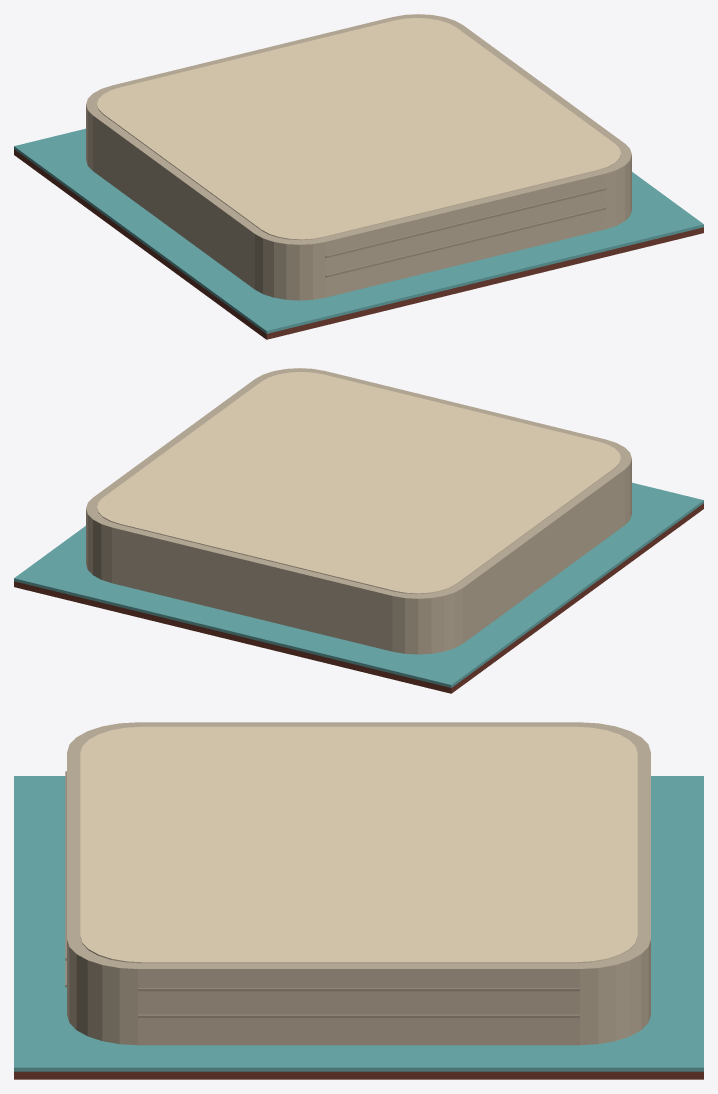
Rendered from island.glb.
3 renders of one model, top to bottom at view 1: azimuth 30°, elevation 25°; view 2: azimuth 150°, elevation 25°; view 3: azimuth 270°, elevation 25°, orthographic. The views are drawn at different scales.
Visible parts, largest first — view 1: island; view 2: island; view 3: island.
Part boxes in pixels (<box>): island: <box>14,14,703,339</box>; island: <box>14,368,703,693</box>; island: <box>14,722,703,1079</box>.
Bounding box in the file's own units: 7.8 × 1.12 × 7.8.
